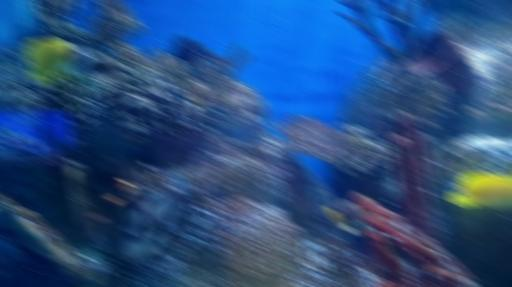Fish: (123, 176, 189, 263), (25, 38, 103, 83), (447, 172, 512, 210), (326, 200, 369, 234)
